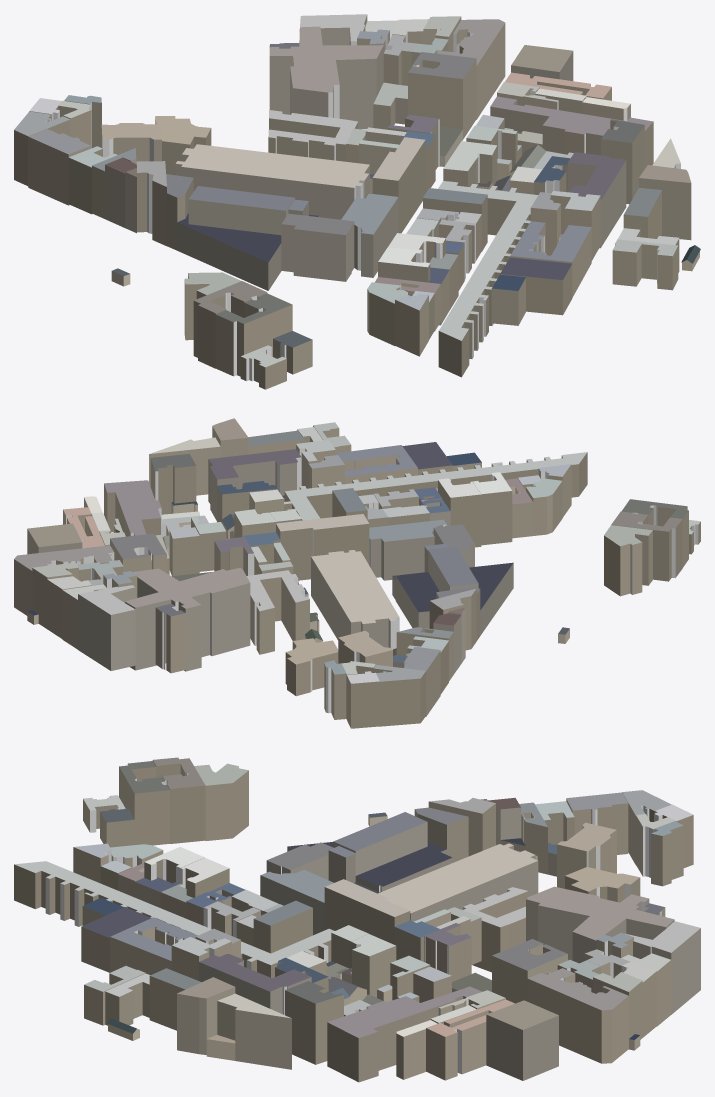
3 views of the same model, one above another, from view 1: azimuth 30°, elevation 25°; view 2: azimuth 150°, elevation 25°; view 3: azimuth 270°, elevation 25° (orthographic). The views are drawn at different scales.
Visible parts, largest first — view 1: tuile; view 2: tuile; view 3: tuile.
Boxes of the visible parts, box(x1,y1,x2,y2) form: tuile: box(14, 14, 700, 389); tuile: box(14, 418, 700, 728); tuile: box(14, 757, 700, 1082).
Bounding box in the file's own units: 267 × 34.05 × 292.
